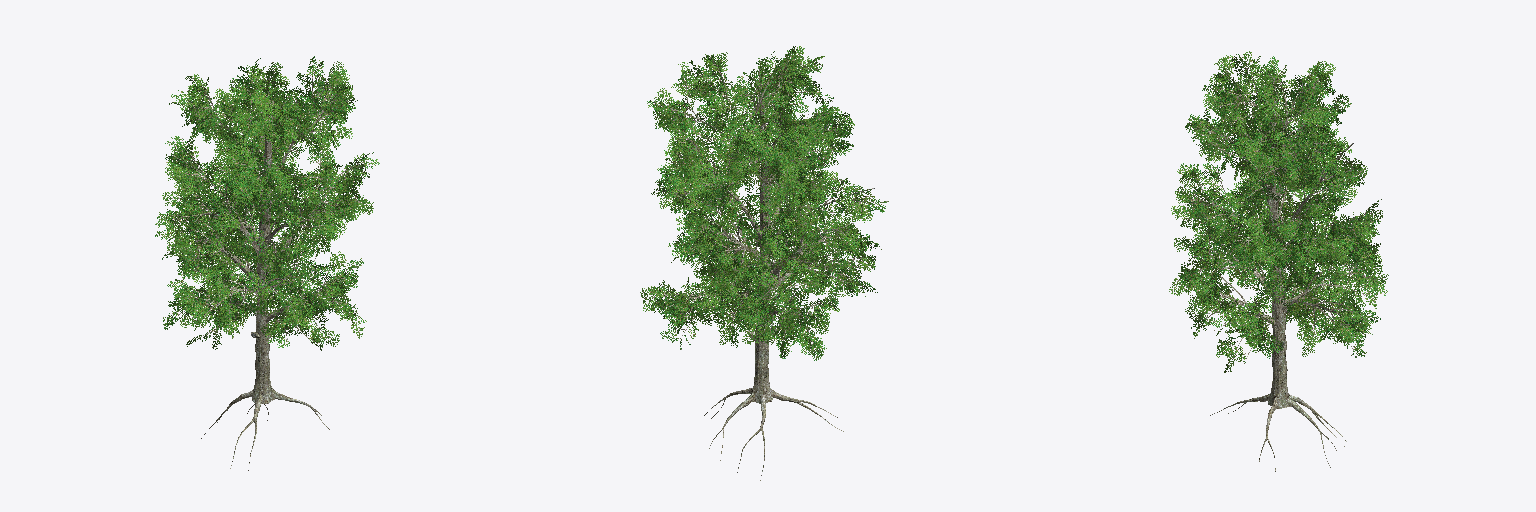
3 renders of one model, left to right at view 1: azimuth 30°, elevation 25°; view 2: azimuth 150°, elevation 25°; view 3: azimuth 270°, elevation 25°, orthographic.
Parts seen in each view (by area): view 1: Red_Maple_Hero_Young_2_Mesh; view 2: Red_Maple_Hero_Young_2_Mesh; view 3: Red_Maple_Hero_Young_2_Mesh.
Boxes of the visible parts, box(x1,y1,x2,y2) form: Red_Maple_Hero_Young_2_Mesh: box(155, 56, 379, 470); Red_Maple_Hero_Young_2_Mesh: box(640, 46, 888, 480); Red_Maple_Hero_Young_2_Mesh: box(1169, 51, 1388, 471).
Bounding box in the file's own units: 1.91 × 3.21 × 1.66.
Materials: 5 (5 with a texture image).